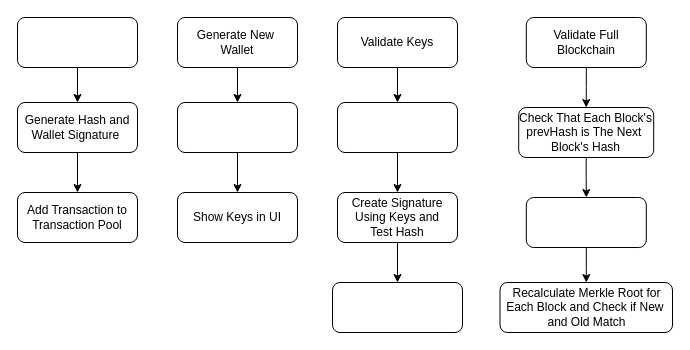
This 690x350 diagram has some shape labels left out. Each missing label, with the centre of its shape:
"Create New Transaction" belongs at point (77, 42).
"Create Test Hash" belongs at point (397, 127).
"Generate Public and Private Keys using ECDsaP256" belongs at point (237, 127).
"Rehash Each Block and Check if New and Old Match" belongs at point (585, 222).
"Validate Signature Using Public Key, Test Hash and Signature" belongs at point (397, 307).
